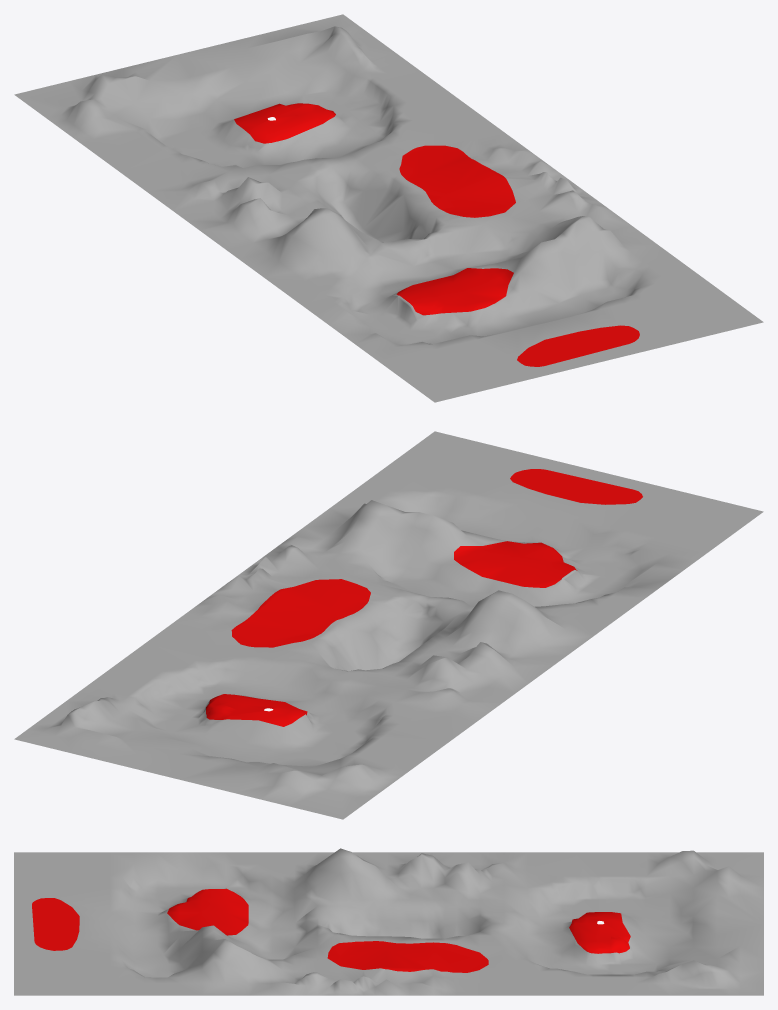
Rendered from hole007.fbx.
The picture shows the model from 3 angles, top to bottom: view 1: azimuth 30°, elevation 25°; view 2: azimuth 150°, elevation 25°; view 3: azimuth 270°, elevation 25°; orthographic projection. The views are drawn at different scales.
Visible parts, largest first — view 1: nurbsToPoly1; view 2: nurbsToPoly1; view 3: nurbsToPoly1.
Part boxes in pixels (x1,y1,x2,y2): nurbsToPoly1: [14, 14, 763, 402]; nurbsToPoly1: [14, 431, 763, 819]; nurbsToPoly1: [14, 848, 763, 995].
Bounding box in the file's own units: 626 × 134 × 1386.
